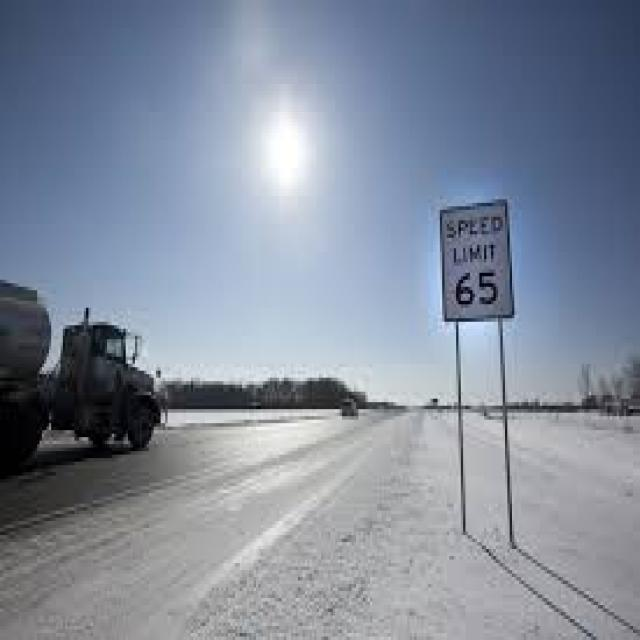speedLimit65: (435, 191, 519, 327)
